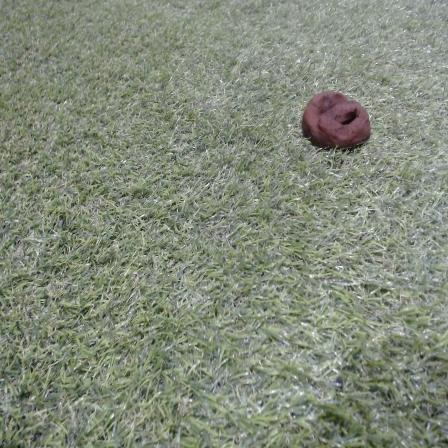dog-poop: (300, 83, 368, 153)
